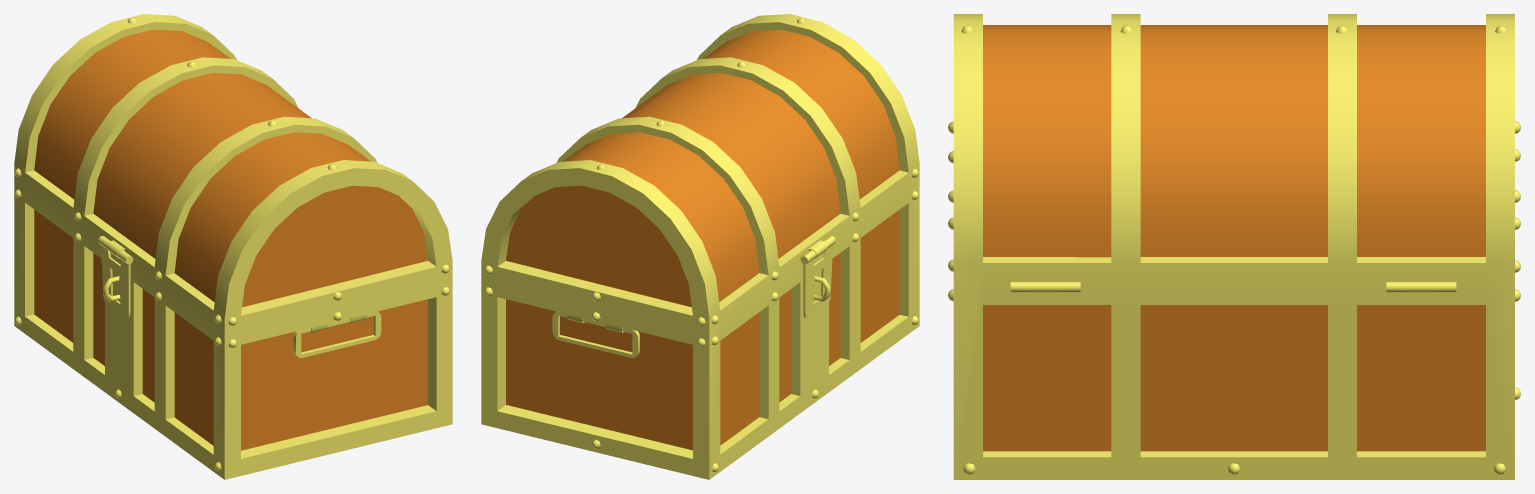
File: treasure-chest.fbx
The picture shows the model from 3 angles, left to right: view 1: azimuth 30°, elevation 25°; view 2: azimuth 150°, elevation 25°; view 3: azimuth 270°, elevation 25°; orthographic projection. The views are drawn at different scales.
Visible parts, largest first — view 1: Dower chest; view 2: Dower chest; view 3: Dower chest.
Part boxes in pixels (x1=…): Dower chest: x1=14, y1=14, x2=452, y2=479; Dower chest: x1=481, y1=14, x2=919, y2=479; Dower chest: x1=948, y1=14, x2=1520, y2=479.
Size of the model in its own units: 60.79 by 66.45 by 91.11.
